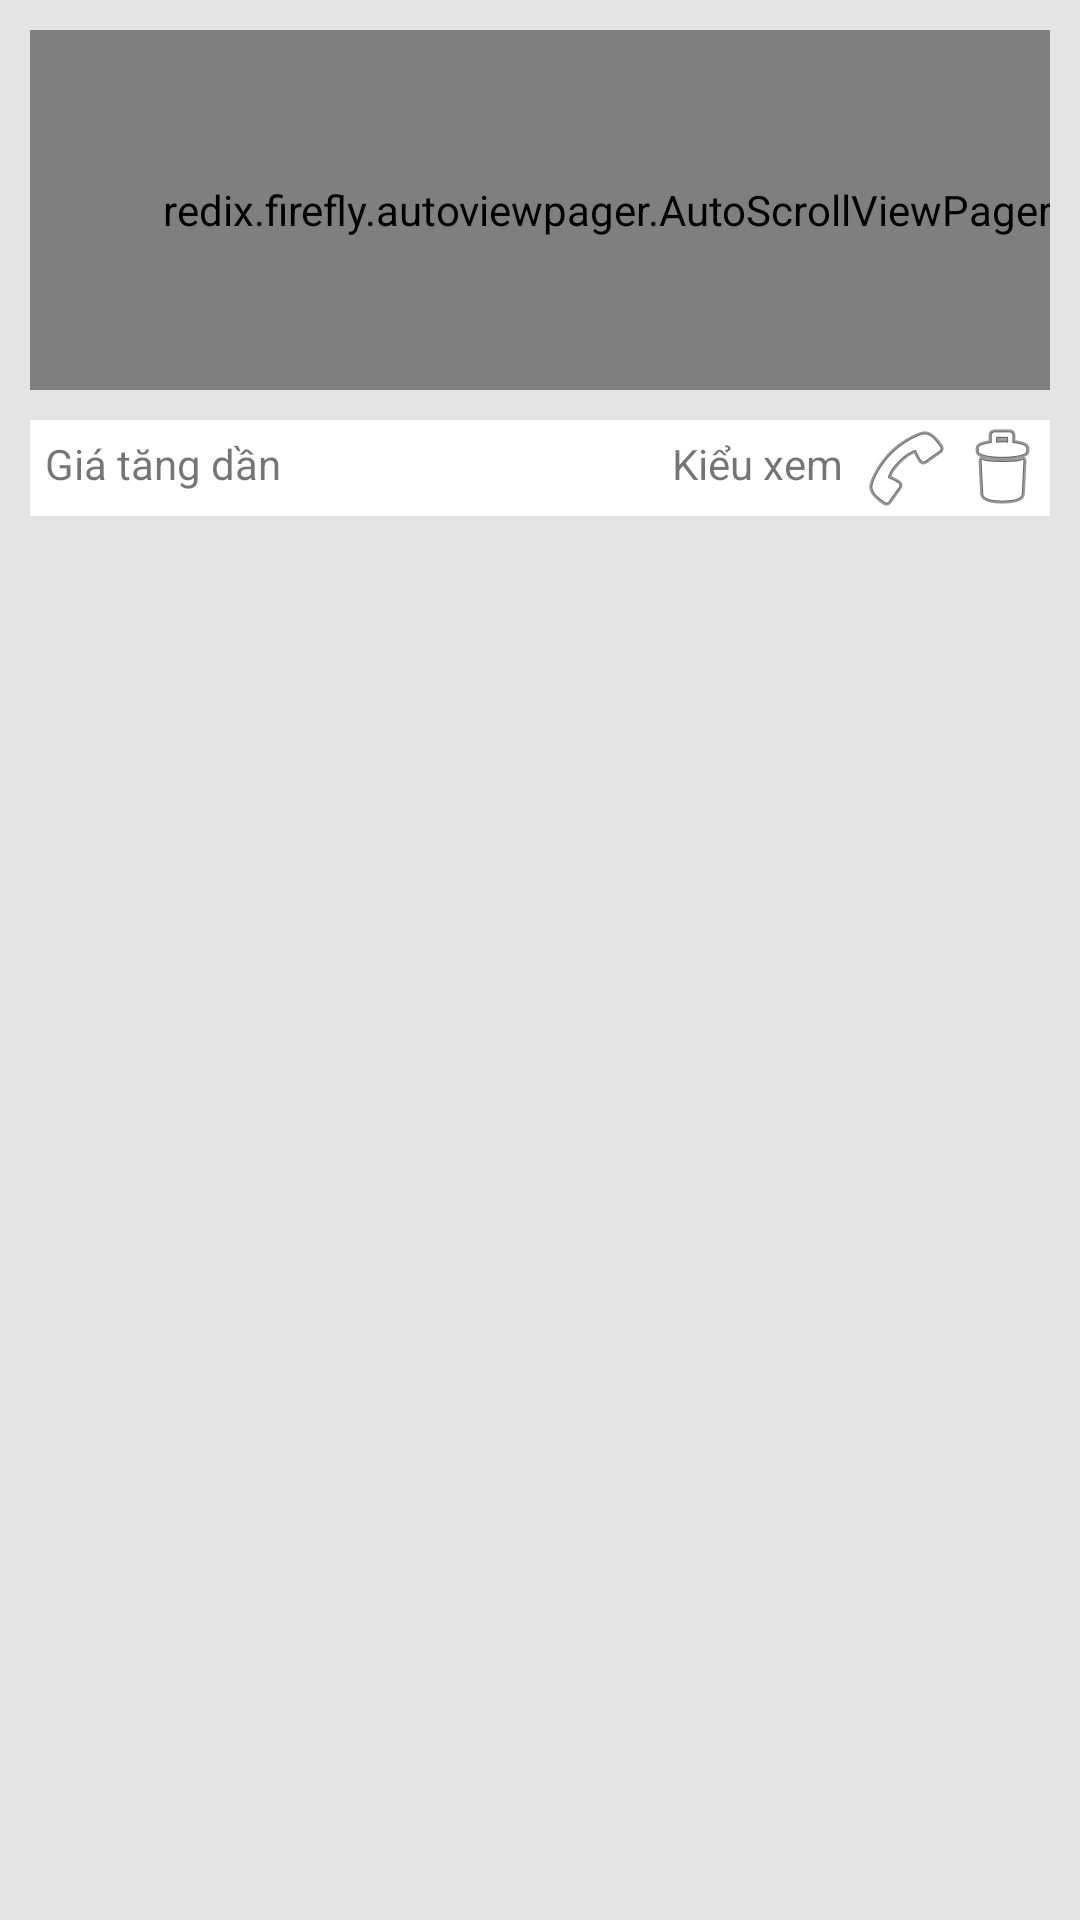

Where to tap for icons on this 1080 × 1920 app screen, as (x=x, y=y):
call: (x=906, y=468)
delete: (x=1002, y=468)
